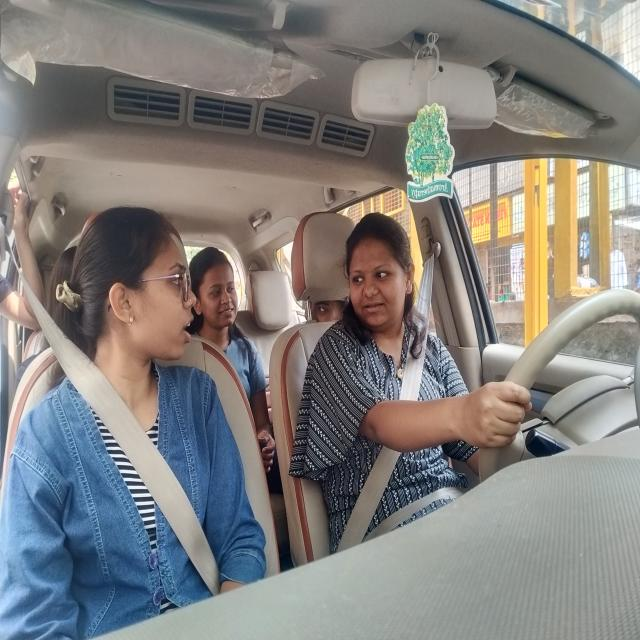LeftRight: (349, 208, 415, 352)
person: (74, 205, 200, 406), (191, 238, 242, 347), (304, 299, 348, 325)
